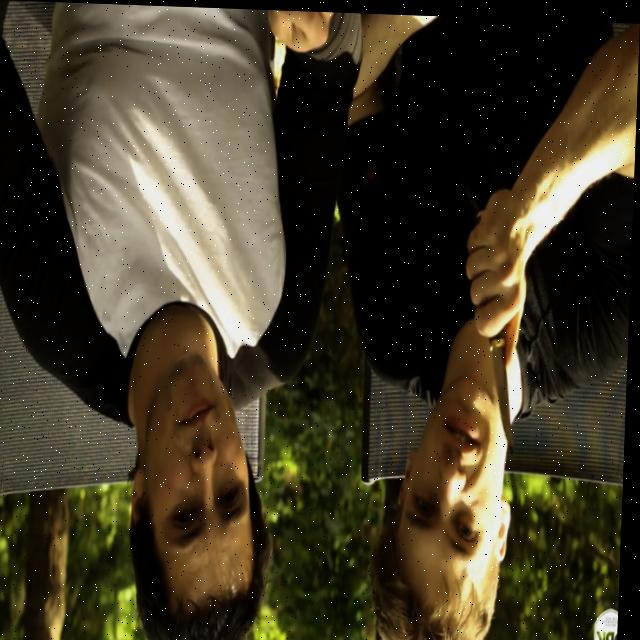knife: (488, 328, 521, 451)
